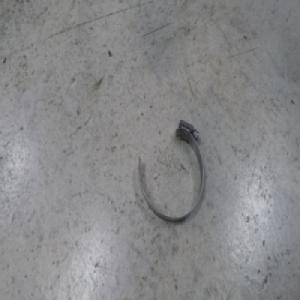AdjustableClamp: (137, 120, 206, 225)
